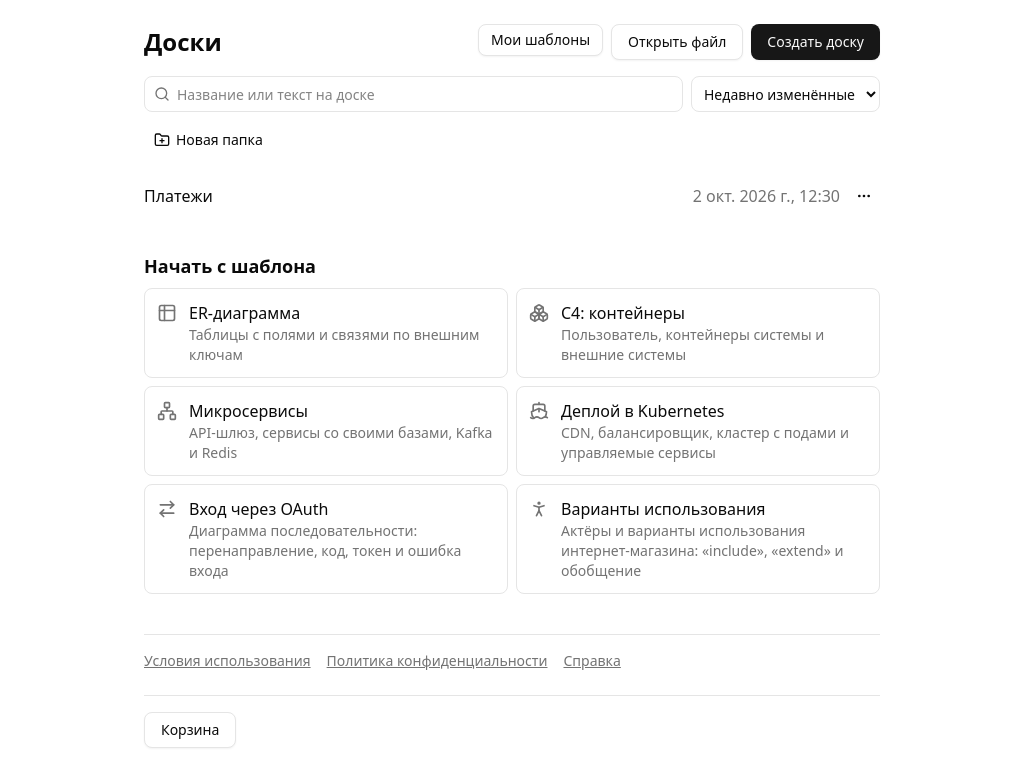
Test: BoardsPage › tells why a board was not copied
This screenshot has width=1024, height=768.
Click the button named "Меню доски «Платежи»" at (864,196), box [848,180,880,212]
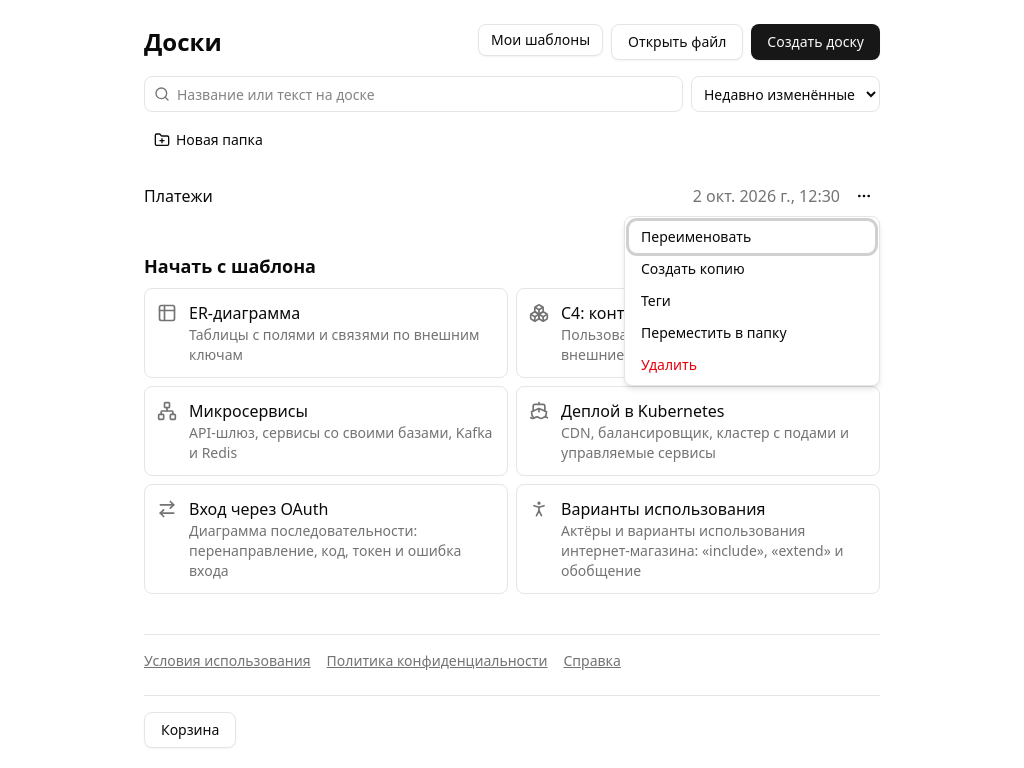
Click the menu item "Создать копию" at (752,269), box [629,253,875,285]
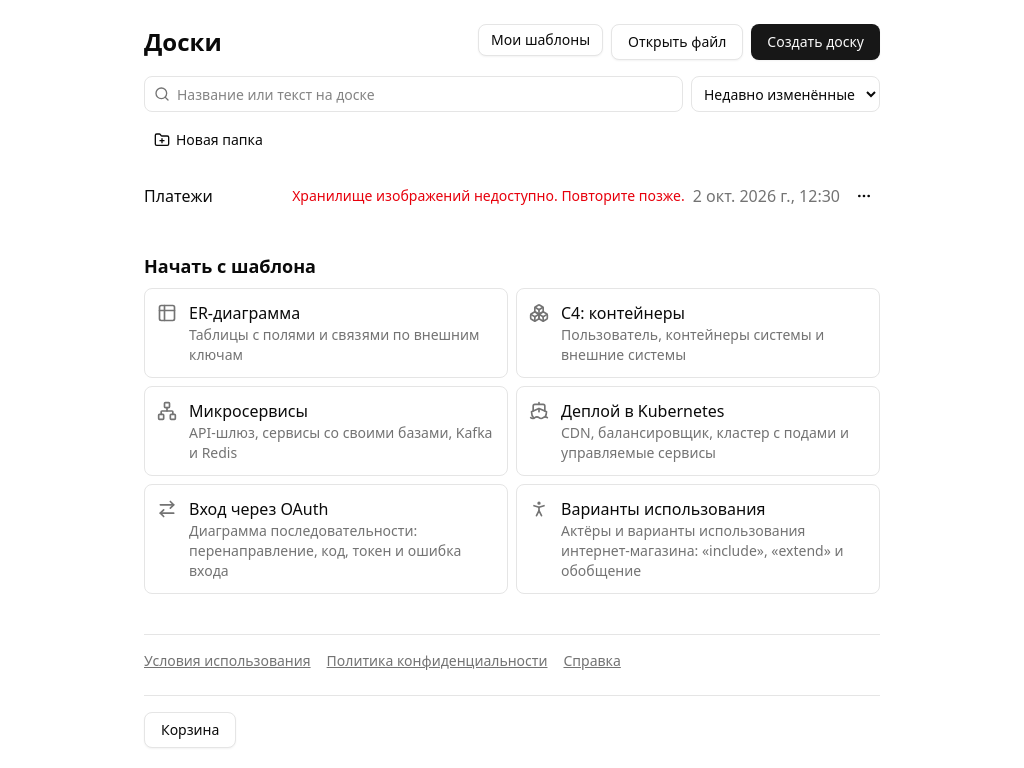
Expected: the message reads "Хранилище изображений недоступно. Повторите позже.", [292,186,685,205]
